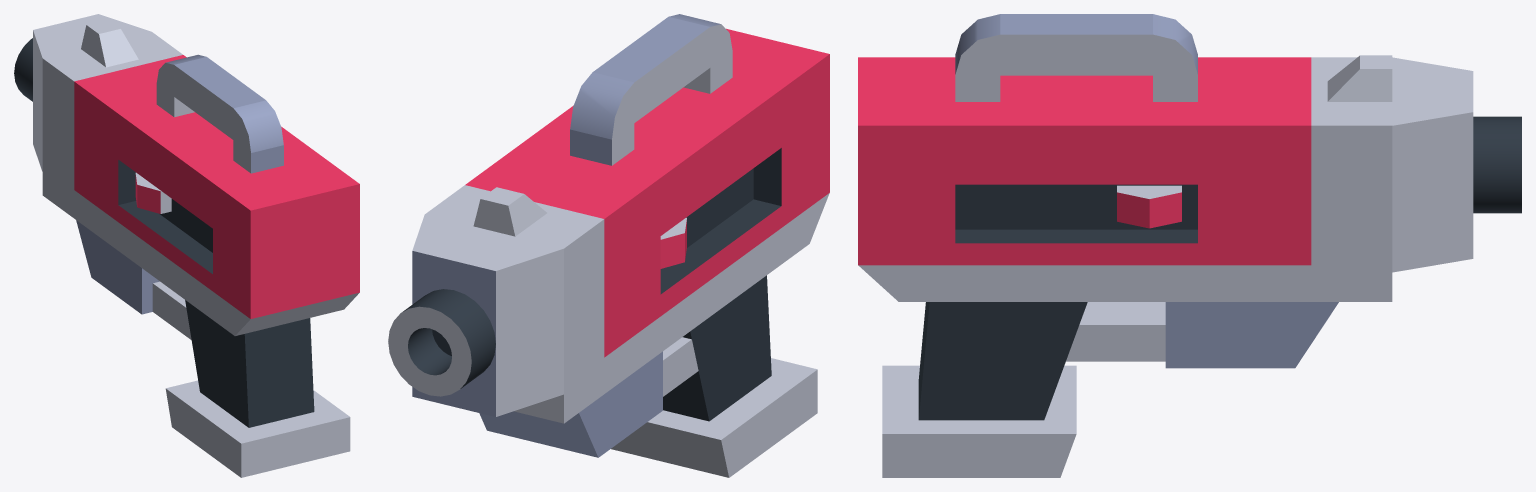
The model's file is blasterB.obj.
3 views of the same model, side by side, from view 1: azimuth 30°, elevation 25°; view 2: azimuth 150°, elevation 25°; view 3: azimuth 270°, elevation 25° (orthographic). The views are drawn at different scales.
Visible parts, largest first — view 1: blasterB; view 2: blasterB; view 3: blasterB.
Part boxes in pixels (left/top/right/bottom): blasterB: left=14, top=14, right=359, bottom=477; blasterB: left=388, top=14, right=829, bottom=477; blasterB: left=858, top=14, right=1521, bottom=477.
Size of the model in its own units: 0.1 by 0.2859 by 0.41.
